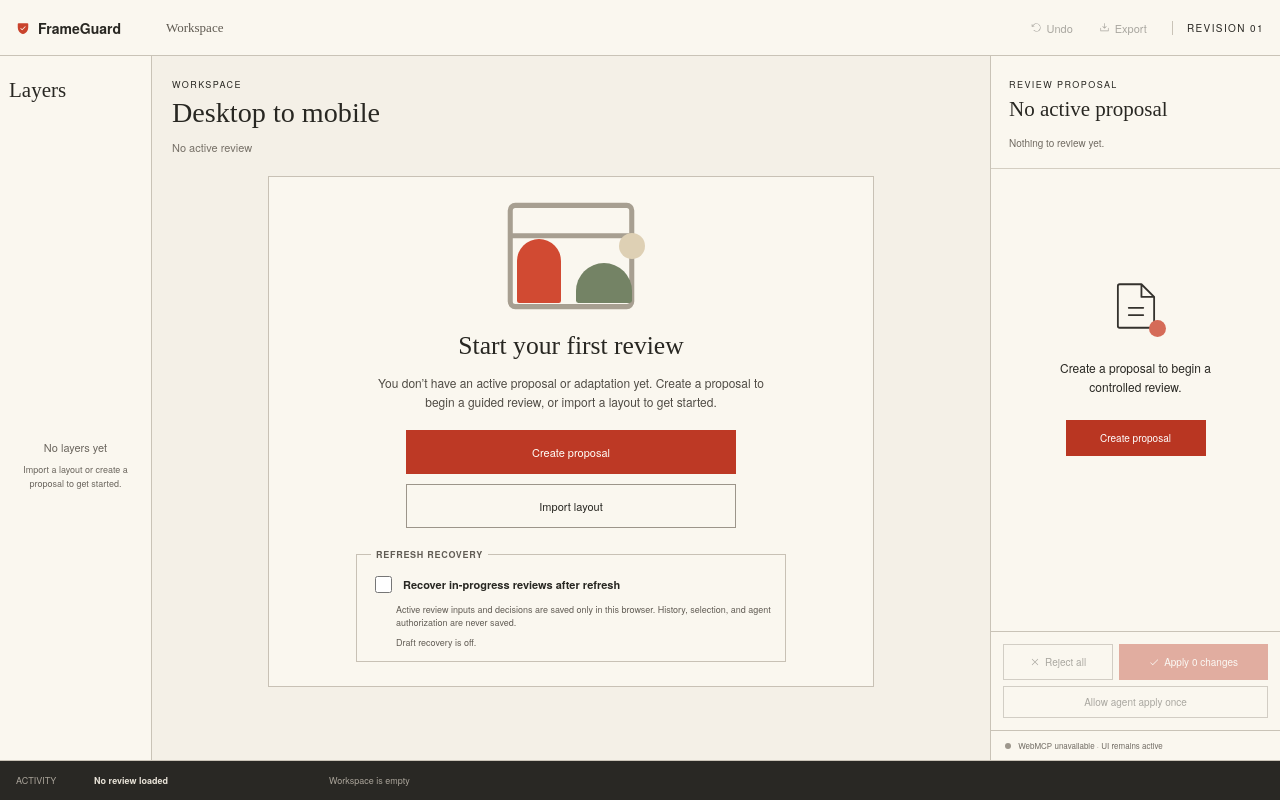
Scenario: reports browser storage errors without presenting a saved state
The width and height of the screenshot is (1280, 800).
Click the checkbox labelled "Recover in-progress reviews after refresh": (384, 584) [375, 576, 392, 593]
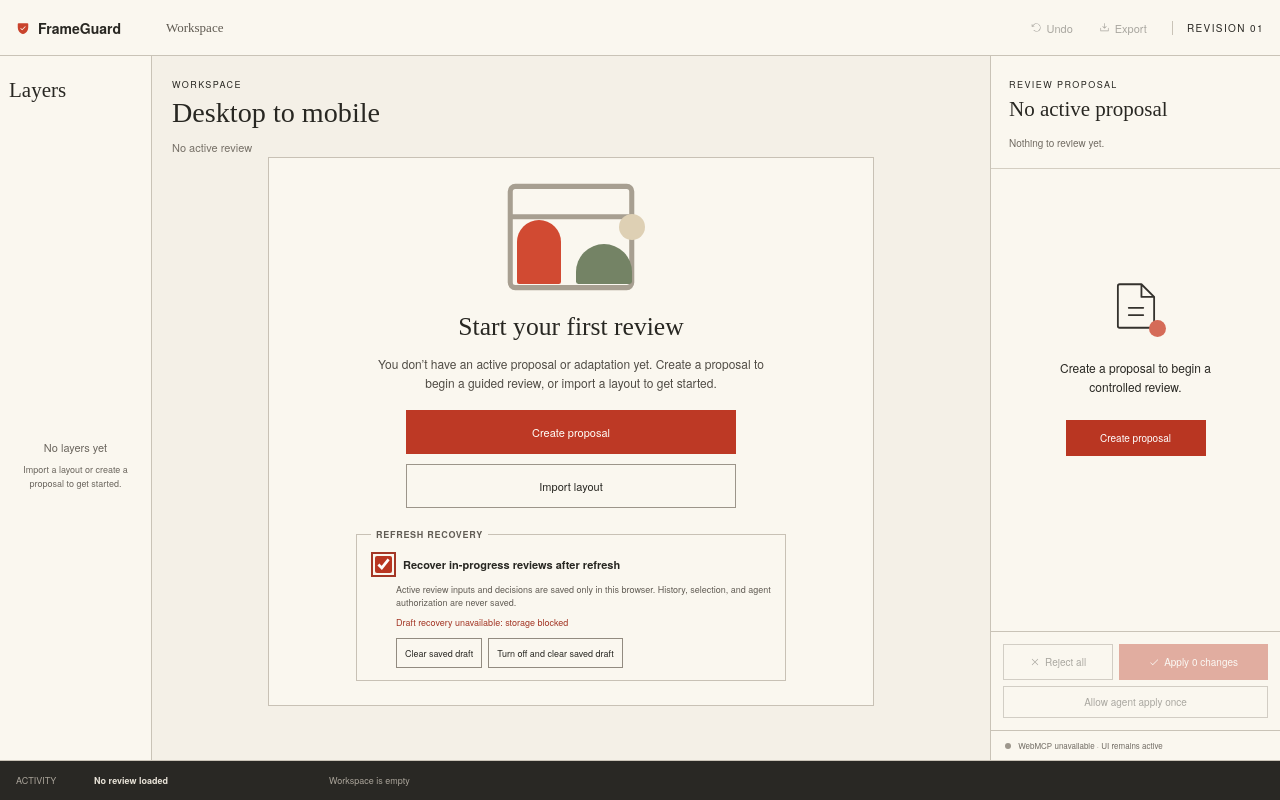
Check: the message reads "Draft recovery unavailable: storage blocked", box [396, 616, 568, 629]
